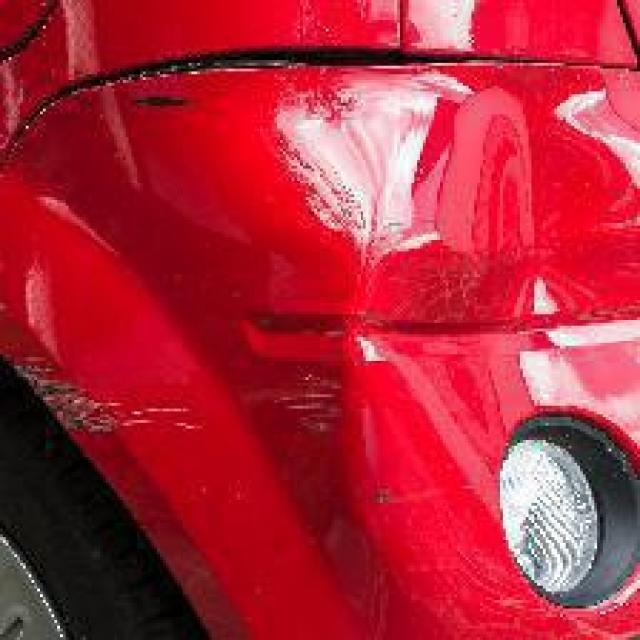damaged: (134, 77, 500, 360), (9, 361, 352, 448)
